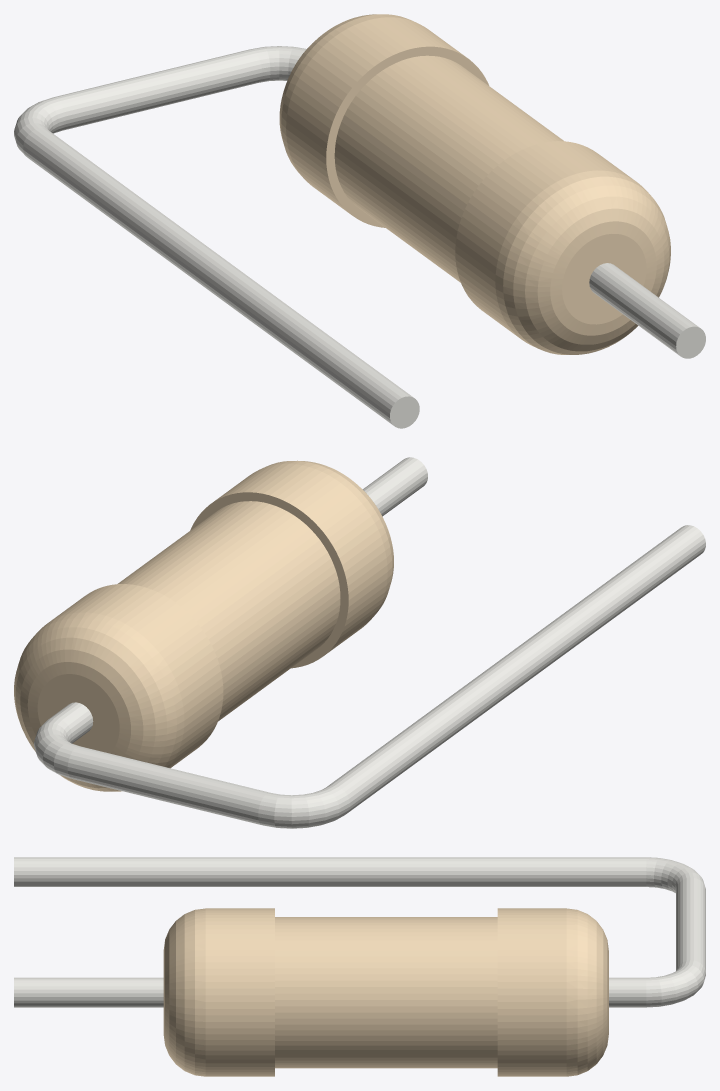
File: R_Axial_DIN0414_L11.9mm_D4.5mm_P7.62mm_Vertical.glb
3 renders of one model, top to bottom at view 1: azimuth 30°, elevation 25°; view 2: azimuth 150°, elevation 25°; view 3: azimuth 270°, elevation 25°, orthographic. The views are drawn at different scales.
Visible parts, largest first — view 1: Shape_IndexedFaceSet.004, Shape_IndexedFaceSet.001, Shape_IndexedFaceSet.015, Shape_IndexedFaceSet.008, Shape_IndexedFaceSet, Shape_IndexedFaceSet.013, Shape_IndexedFaceSet.003, Shape_IndexedFaceSet.005, Shape_IndexedFaceSet.006, Shape_IndexedFaceSet.009, Shape_IndexedFaceSet.014, Shape_IndexedFaceSet.012 (+2 smaller); view 2: Shape_IndexedFaceSet.004, Shape_IndexedFaceSet.009, Shape_IndexedFaceSet.015, Shape_IndexedFaceSet, Shape_IndexedFaceSet.008, Shape_IndexedFaceSet.013, Shape_IndexedFaceSet.010, Shape_IndexedFaceSet.014, Shape_IndexedFaceSet.002, Shape_IndexedFaceSet.005, Shape_IndexedFaceSet.012, Shape_IndexedFaceSet.001 (+1 smaller); view 3: Shape_IndexedFaceSet.004, Shape_IndexedFaceSet.015, Shape_IndexedFaceSet, Shape_IndexedFaceSet.008, Shape_IndexedFaceSet.009, Shape_IndexedFaceSet.001, Shape_IndexedFaceSet.005, Shape_IndexedFaceSet.013, Shape_IndexedFaceSet.012, Shape_IndexedFaceSet.014, Shape_IndexedFaceSet.011.
Part boxes in pixels (bbox=[...]): Shape_IndexedFaceSet.004: bbox=[334, 55, 563, 282]; Shape_IndexedFaceSet.001: bbox=[495, 170, 670, 354]; Shape_IndexedFaceSet.015: bbox=[23, 128, 414, 425]; Shape_IndexedFaceSet.008: bbox=[286, 17, 465, 214]; Shape_IndexedFaceSet: bbox=[455, 141, 636, 337]; Shape_IndexedFaceSet.013: bbox=[54, 49, 261, 130]; Shape_IndexedFaceSet.003: bbox=[562, 234, 646, 324]; Shape_IndexedFaceSet.005: bbox=[589, 263, 699, 355]; Shape_IndexedFaceSet.006: bbox=[326, 46, 489, 227]; Shape_IndexedFaceSet.009: bbox=[279, 14, 413, 175]; Shape_IndexedFaceSet.014: bbox=[14, 97, 65, 155]; Shape_IndexedFaceSet.012: bbox=[251, 46, 306, 82]; Shape_IndexedFaceSet.004: bbox=[118, 501, 340, 721]; Shape_IndexedFaceSet.009: bbox=[14, 612, 184, 791]; Shape_IndexedFaceSet.015: bbox=[327, 525, 705, 813]; Shape_IndexedFaceSet: bbox=[214, 463, 387, 655]; Shape_IndexedFaceSet.008: bbox=[47, 584, 223, 768]; Shape_IndexedFaceSet.013: bbox=[67, 746, 268, 824]; Shape_IndexedFaceSet.010: bbox=[37, 674, 119, 753]; Shape_IndexedFaceSet.014: bbox=[258, 785, 349, 828]; Shape_IndexedFaceSet.002: bbox=[190, 492, 348, 668]; Shape_IndexedFaceSet.005: bbox=[363, 457, 427, 516]; Shape_IndexedFaceSet.012: bbox=[34, 717, 79, 778]; Shape_IndexedFaceSet.001: bbox=[262, 460, 393, 616]; Shape_IndexedFaceSet.004: bbox=[275, 917, 497, 1068]; Shape_IndexedFaceSet.015: bbox=[14, 857, 646, 886]; Shape_IndexedFaceSet: bbox=[205, 908, 274, 1076]; Shape_IndexedFaceSet.008: bbox=[497, 908, 566, 1076]; Shape_IndexedFaceSet.009: bbox=[566, 908, 608, 1076]; Shape_IndexedFaceSet.001: bbox=[163, 908, 205, 1076]; Shape_IndexedFaceSet.005: bbox=[14, 977, 163, 1007]; Shape_IndexedFaceSet.013: bbox=[676, 877, 705, 970]; Shape_IndexedFaceSet.012: bbox=[646, 960, 705, 1007]; Shape_IndexedFaceSet.014: bbox=[646, 857, 704, 893]; Shape_IndexedFaceSet.011: bbox=[609, 977, 646, 1007].
Bounding box in the file's own units: 4.04 × 1.77 × 7.28.
